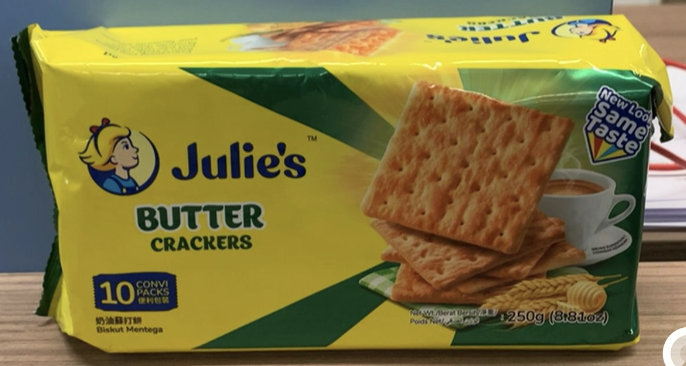crackers_200g-299g: (77, 88, 639, 338)
